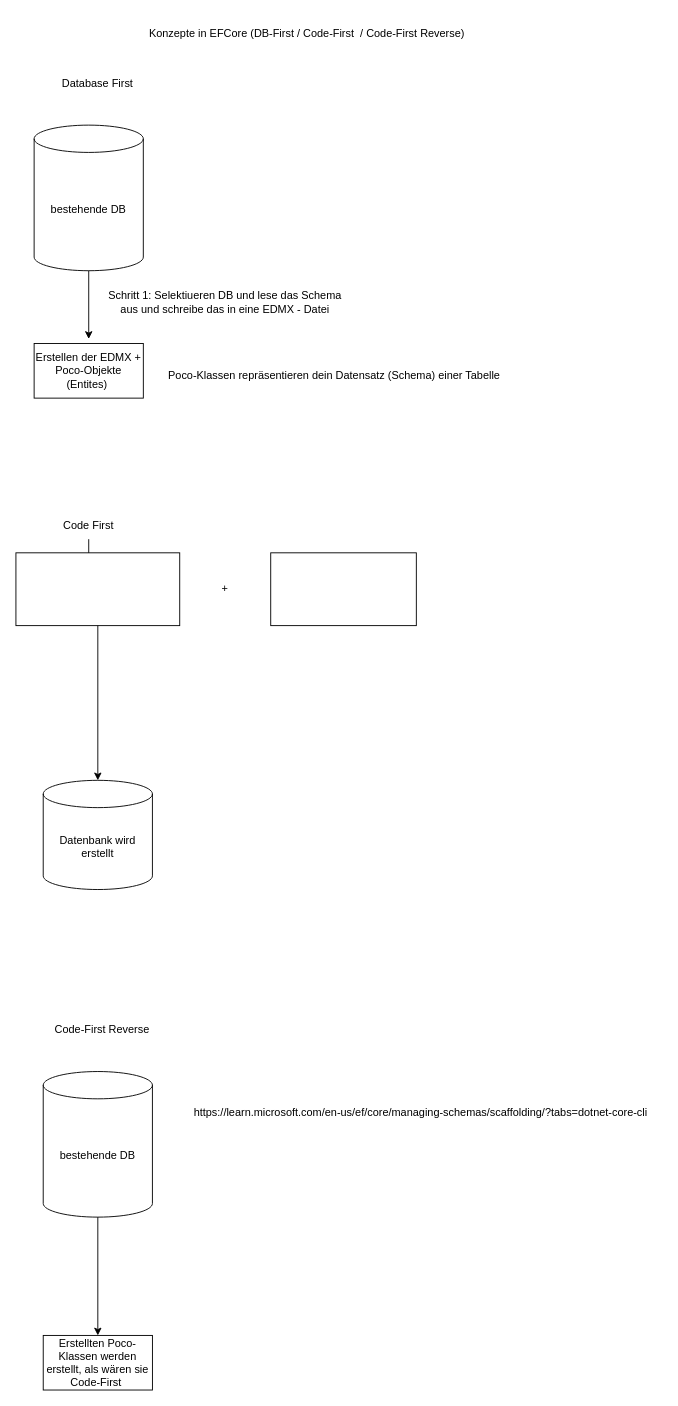
Image size: 678x1406. Some labels were removed from this diagram. Each missing label, with the centre of its shape:
"Beschreibung der Datenbank mithilfe von POCO-Klassen (Entities)" goes at (97,589).
"Datenbank-Provider" goes at (343,589).
